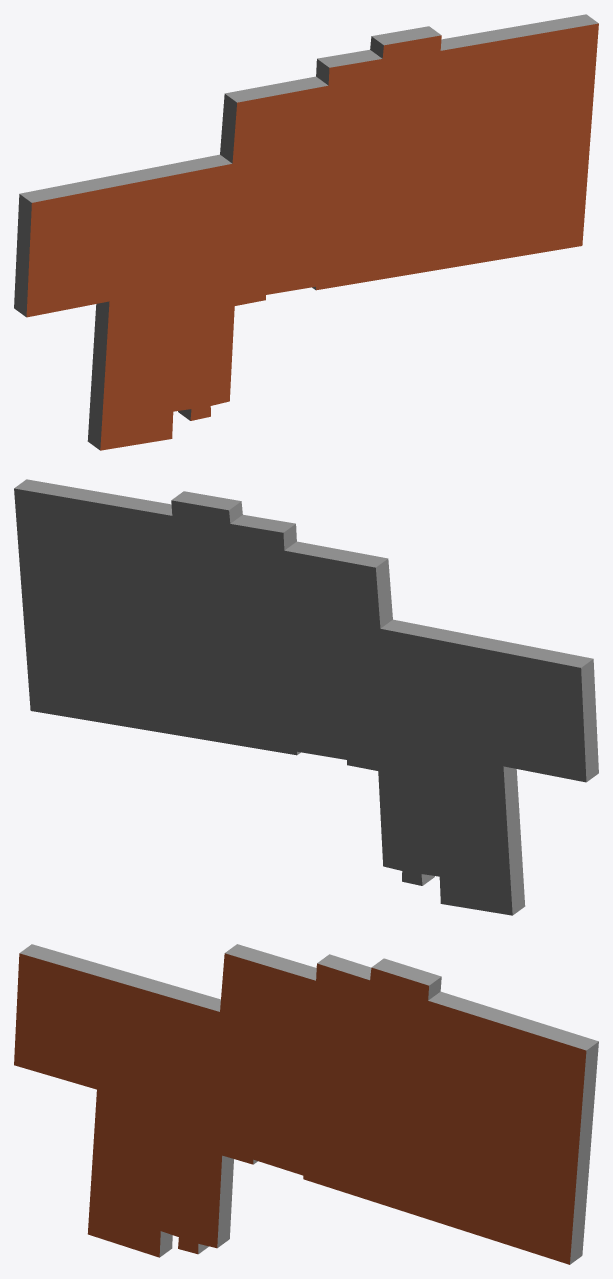
File: construction_0097_assumed_A_Grande_construcao_h6m.obj
3 views of the same model, one above another, from view 1: azimuth 30°, elevation 25°; view 2: azimuth 150°, elevation 25°; view 3: azimuth 330°, elevation 25° (orthographic).
Visible parts, largest first — view 1: construction_0097_assumed_A_Grande_construcao; view 2: construction_0097_assumed_A_Grande_construcao; view 3: construction_0097_assumed_A_Grande_construcao.
Boxes of the visible parts, left/top/right/bottom form: construction_0097_assumed_A_Grande_construcao: left=14, top=14, right=598, bottom=450; construction_0097_assumed_A_Grande_construcao: left=14, top=479, right=598, bottom=915; construction_0097_assumed_A_Grande_construcao: left=14, top=944, right=598, bottom=1264.
Bounding box in the file's own units: 158 × 90.23 × 6.
